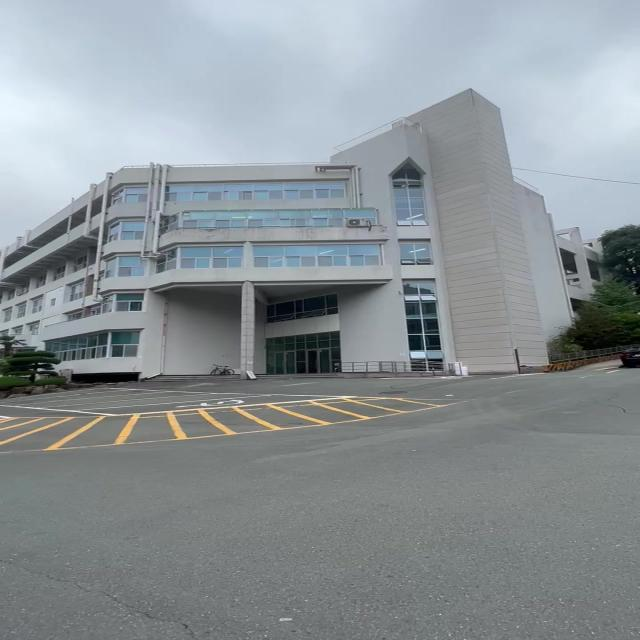building: (30, 104, 562, 376)
